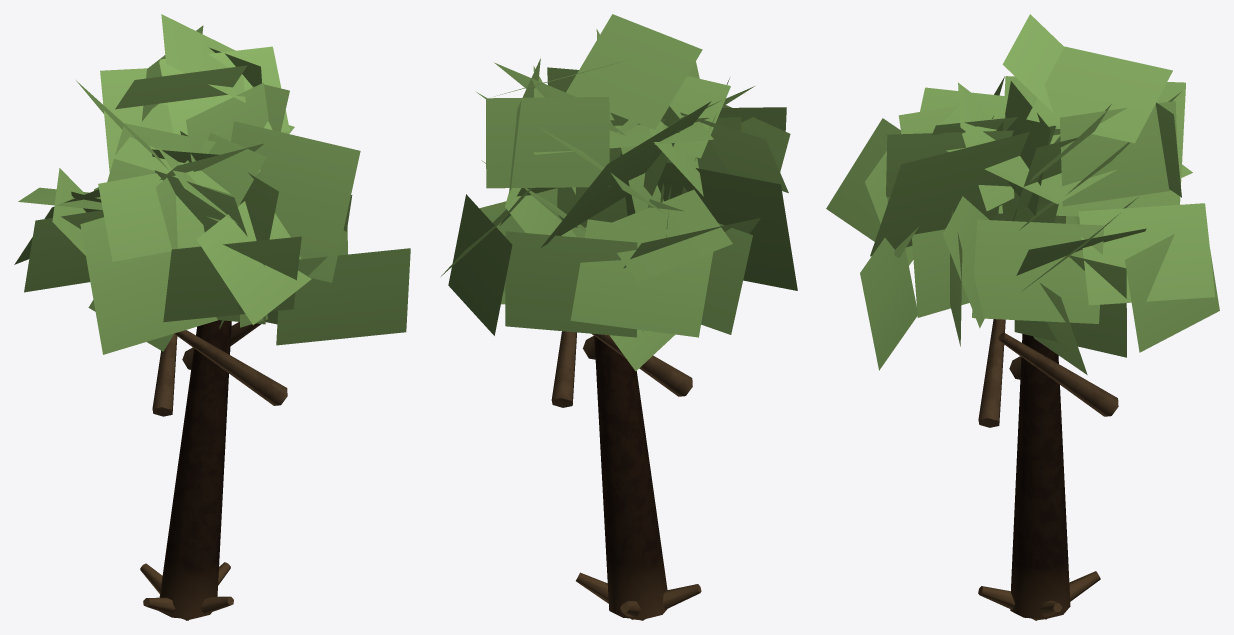
The model's file is overgrown_tree.glb.
3 views of the same model, side by side, from view 1: azimuth 30°, elevation 25°; view 2: azimuth 150°, elevation 25°; view 3: azimuth 270°, elevation 25° (orthographic). The views are drawn at different scales.
Parts seen in each view (by area): view 1: OvergrownTree; view 2: OvergrownTree; view 3: OvergrownTree.
Boxes of the visible parts, bbox=[...] form: OvergrownTree: bbox=[14, 14, 410, 620]; OvergrownTree: bbox=[441, 14, 797, 620]; OvergrownTree: bbox=[826, 14, 1219, 620].
Bounding box in the file's own units: 3.36 × 6.55 × 4.06.
Materials: 2 (1 with a texture image).
